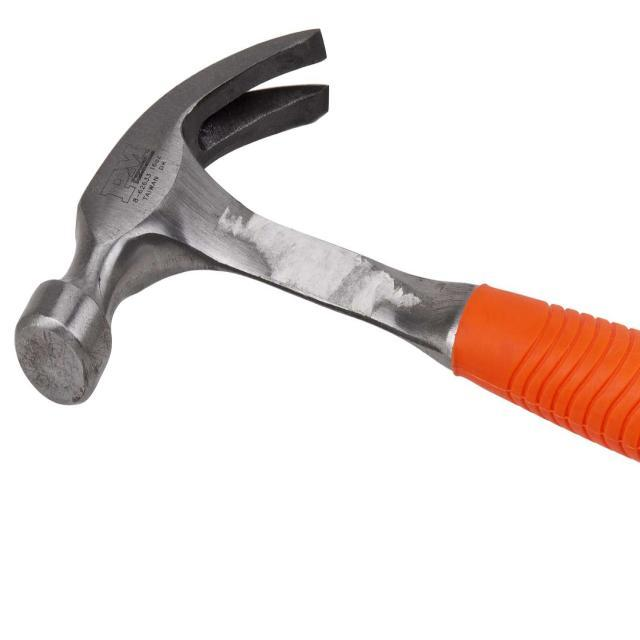hammer: (6, 23, 640, 491)
